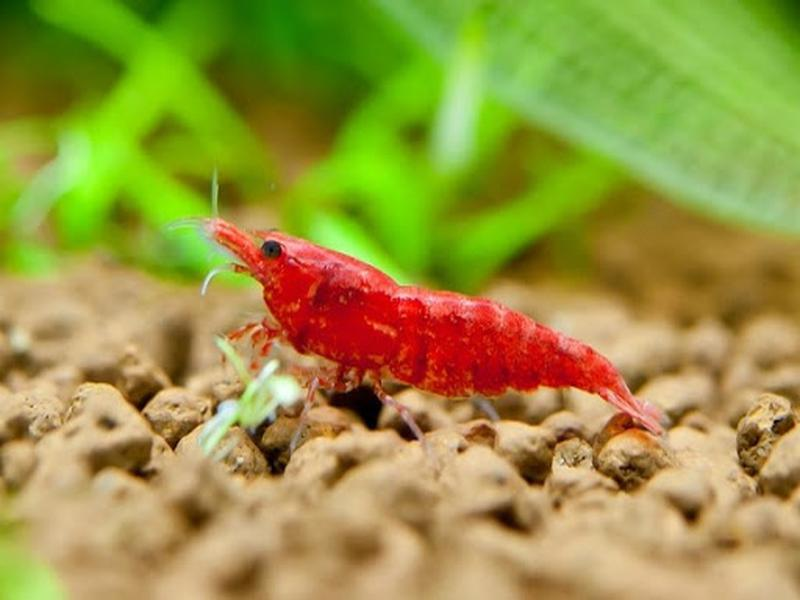shrimp: (207, 218, 666, 435)
